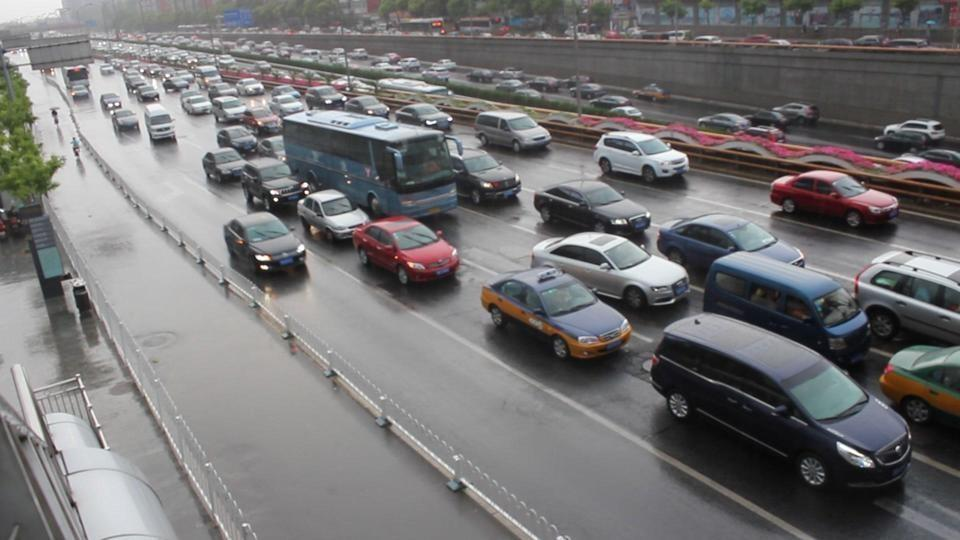car: (647, 312, 914, 496), (702, 252, 873, 369), (479, 265, 633, 361), (529, 230, 690, 309), (654, 212, 806, 284), (852, 255, 960, 346), (232, 196, 364, 257), (351, 215, 461, 286), (531, 178, 652, 241), (770, 170, 900, 228), (879, 344, 960, 427), (221, 211, 308, 274), (592, 131, 689, 183), (297, 188, 371, 244), (240, 158, 313, 213), (449, 151, 522, 205), (474, 108, 552, 154), (874, 118, 947, 150), (201, 148, 251, 186), (214, 125, 258, 157), (142, 106, 178, 144), (111, 108, 141, 136)
